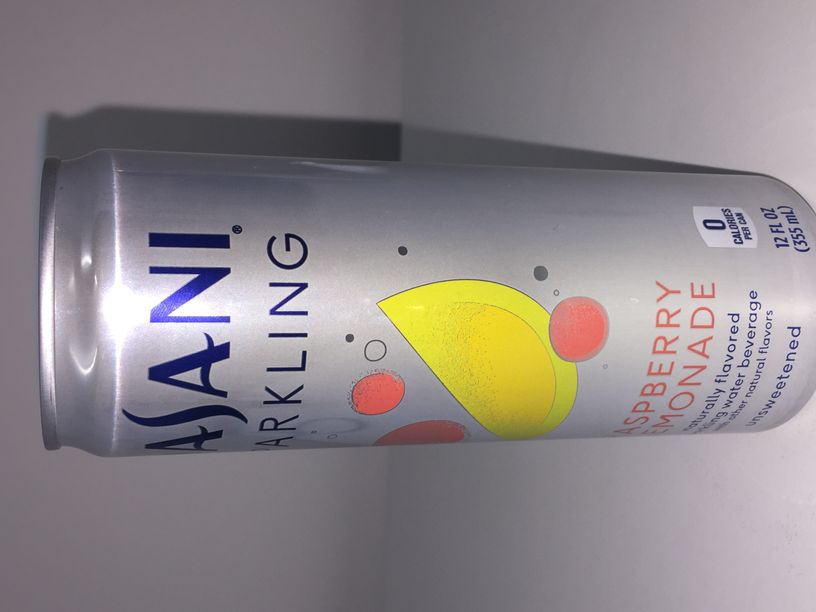lemonade: (39, 147, 816, 460)
